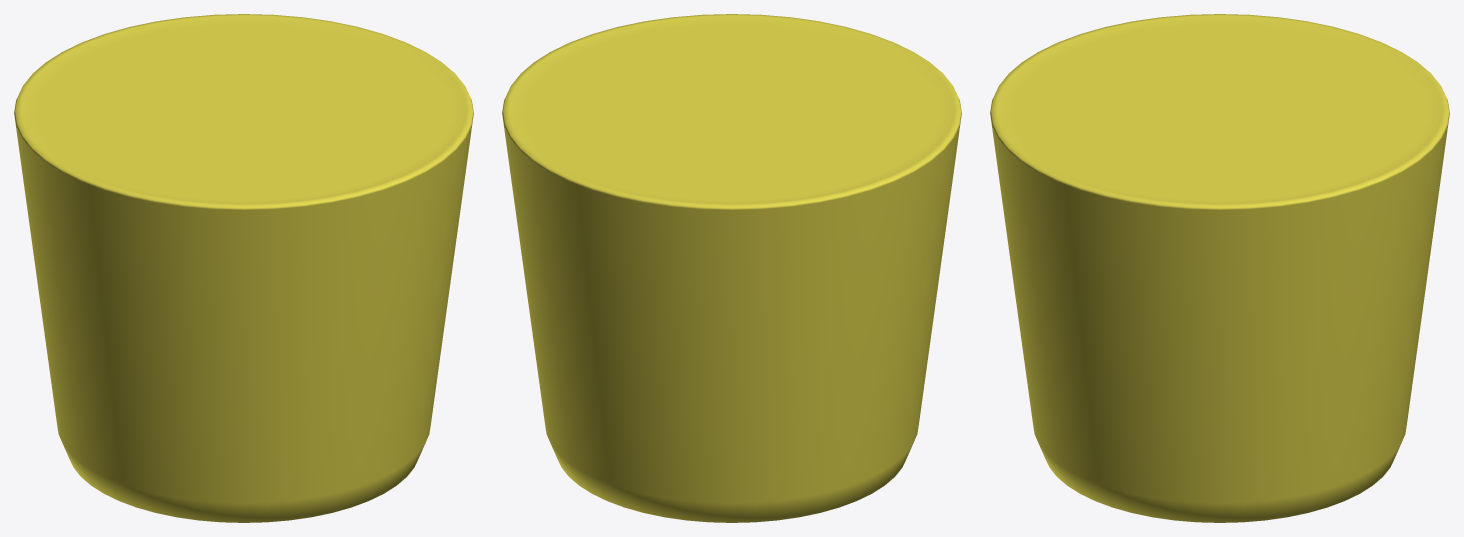
The model's file is Fuze_Liquid_01.glb.
3 renders of one model, left to right at view 1: azimuth 30°, elevation 25°; view 2: azimuth 150°, elevation 25°; view 3: azimuth 270°, elevation 25°, orthographic.
Parts seen in each view (by area): view 1: Liquid_Low001; view 2: Liquid_Low001; view 3: Liquid_Low001.
Boxes of the visible parts, <box> form: Liquid_Low001: <box>14,14,473,522</box>; Liquid_Low001: <box>502,14,961,522</box>; Liquid_Low001: <box>990,14,1449,522</box>.
Bounding box in the file's own units: 0.0866 × 0.0727 × 0.0866.
